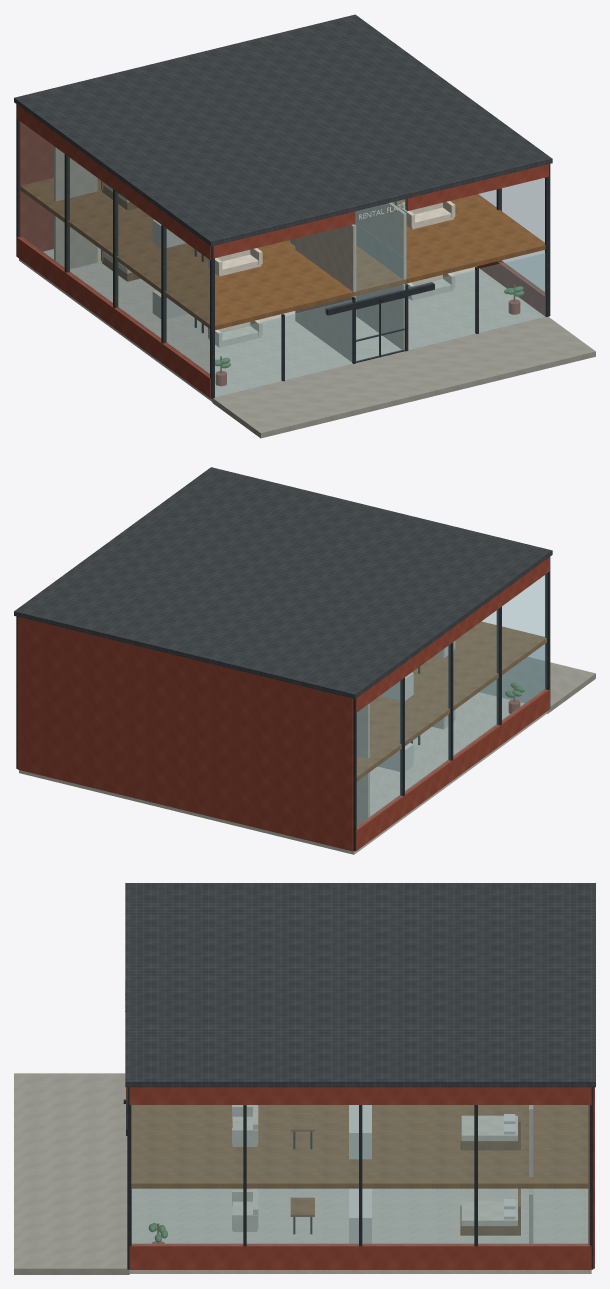
Rendered from 16_Rental_Flats_LOD1.glb.
3 renders of one model, top to bottom at view 1: azimuth 30°, elevation 25°; view 2: azimuth 150°, elevation 25°; view 3: azimuth 270°, elevation 25°, orthographic. The views are drawn at different scales.
Parts seen in each view (by area): view 1: Roof, Side glazing, Approach, Floor, Upper floor, Front glazing, Front glazing.001, Upper floor.001, Side base wall, Entrance transom, Rear wall, Side glazing.001 (+19 smaller); view 2: Roof, Rear wall, Side glazing, Upper floor, Floor, Side base wall, Side upper wall, Approach, Front glazing, Private bathroom screen.001, Side mullion.002, Side mullion.001 (+4 smaller); view 3: Roof, Side glazing.001, Upper floor.001, Approach, Floor, Side base wall.001, Side upper wall.001, Mattress.003, Mattress.002, Kitchen run.002, Kitchen run.003, Side mullion.005 (+7 smaller).
Boxes of the visible parts, x1,y1,x2,y2 form: Roof: (14, 14, 552, 246); Side glazing: (19, 121, 209, 376); Approach: (212, 316, 595, 438); Floor: (19, 247, 544, 401); Upper floor: (19, 178, 356, 330); Front glazing: (215, 300, 352, 397); Front glazing.001: (408, 253, 545, 349); Upper floor.001: (356, 194, 545, 284); Side base wall: (16, 237, 210, 398); Entrance transom: (353, 199, 406, 301); Rear wall: (19, 121, 53, 251); Side glazing.001: (478, 178, 544, 293); Roof: (14, 467, 552, 698); Rear wall: (17, 617, 353, 851); Side glazing: (357, 574, 547, 828); Upper floor: (356, 621, 546, 781); Floor: (19, 692, 547, 854); Side base wall: (356, 689, 549, 850); Side upper wall: (356, 557, 549, 712); Approach: (480, 657, 595, 713); Front glazing: (480, 645, 544, 702); Private bathroom screen.001: (356, 703, 369, 758); Side mullion.002: (448, 642, 453, 760); Side mullion.001: (496, 606, 501, 725); Roof: (125, 883, 595, 1087); Side glazing.001: (131, 1105, 589, 1245); Upper floor.001: (131, 1105, 589, 1188); Approach: (14, 1073, 129, 1274); Floor: (129, 1188, 591, 1273); Side base wall.001: (129, 1243, 591, 1269); Side upper wall.001: (129, 1087, 591, 1104); Mattress.003: (461, 1115, 517, 1140); Mattress.002: (461, 1200, 517, 1225); Kitchen run.002: (349, 1188, 371, 1243); Kitchen run.003: (349, 1105, 371, 1159); Side mullion.005: (127, 1087, 131, 1269).
Size of the model in its own units: 16.3 by 7.44 by 20.15.
Materials: 14 (9 with a texture image).
